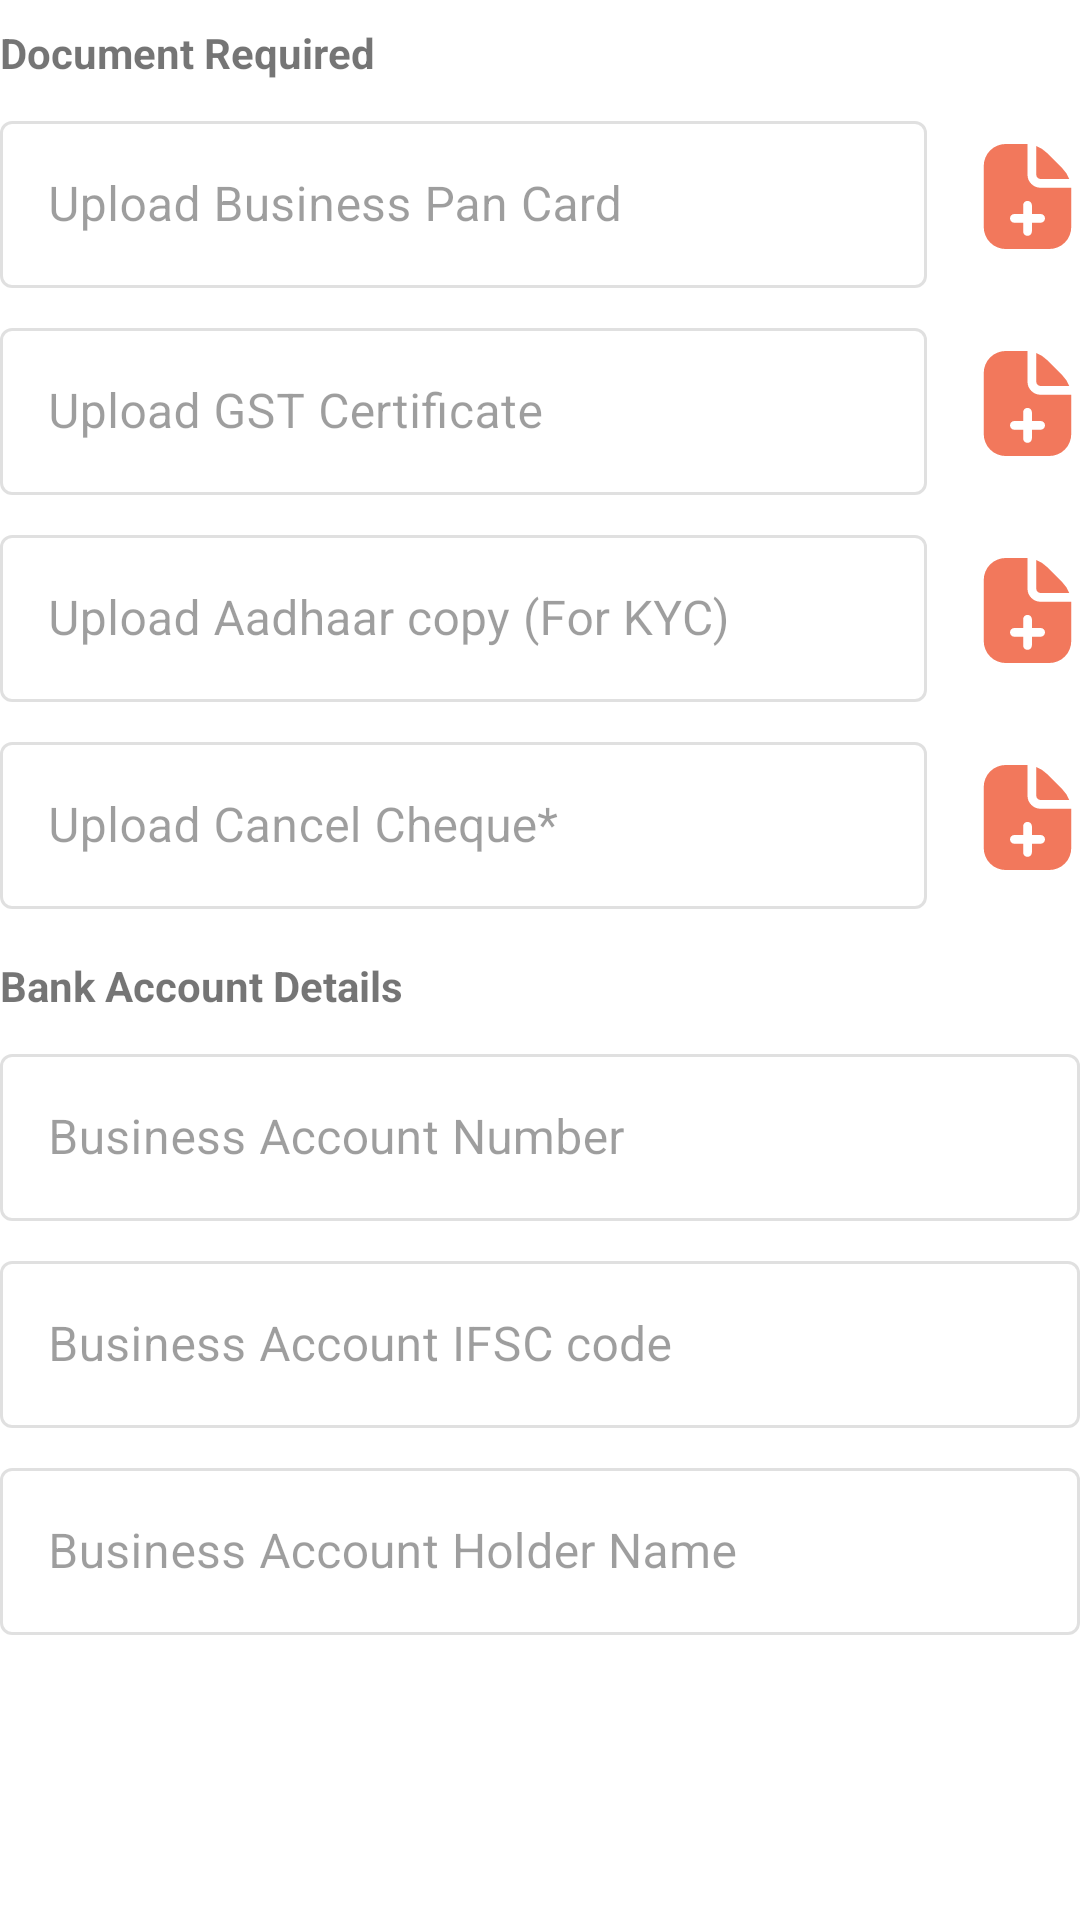

Icon bounding boxes for this 1080w x 1920h phone screenshot, format [x1,y1,x2,y2]:
add document: [983,144,1072,249], [983,351,1072,456], [983,558,1072,663], [983,765,1072,870]
